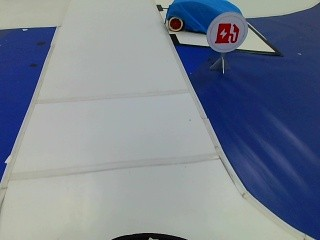battery: (207, 13, 247, 52)
car: (162, 1, 246, 34)
